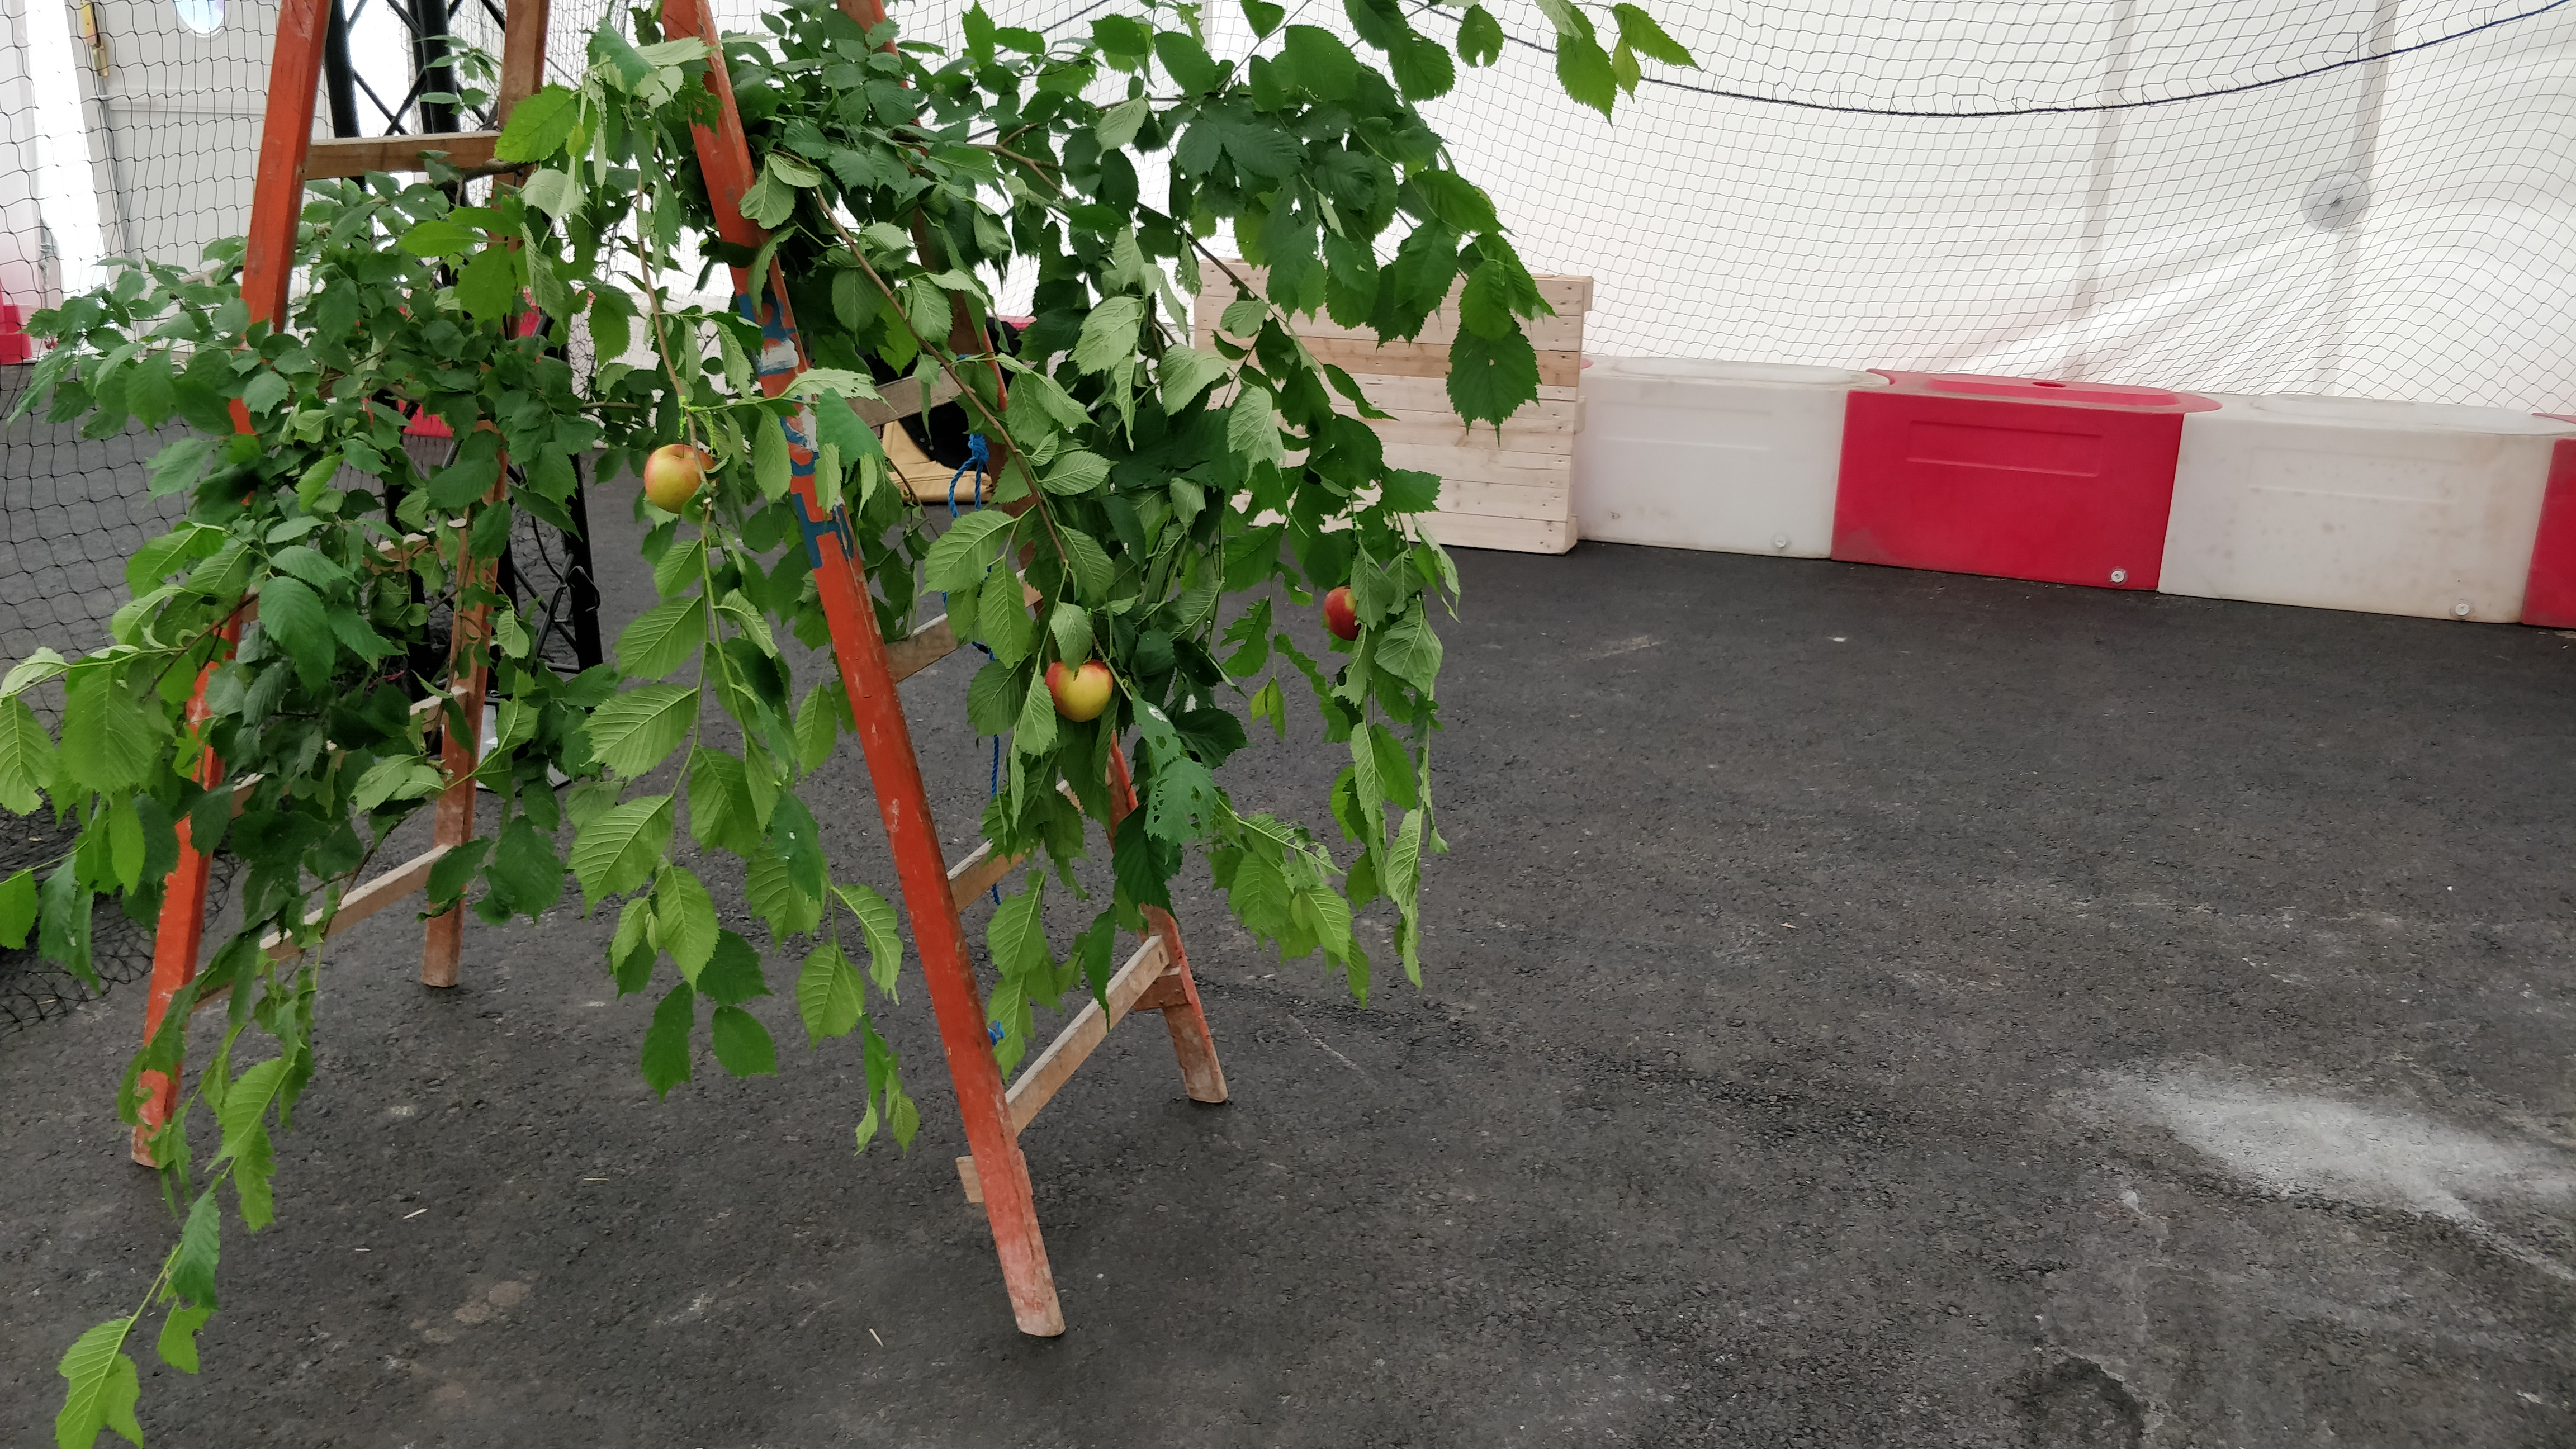apple: (642, 444, 717, 513), (1046, 658, 1113, 724), (1323, 586, 1362, 640)
